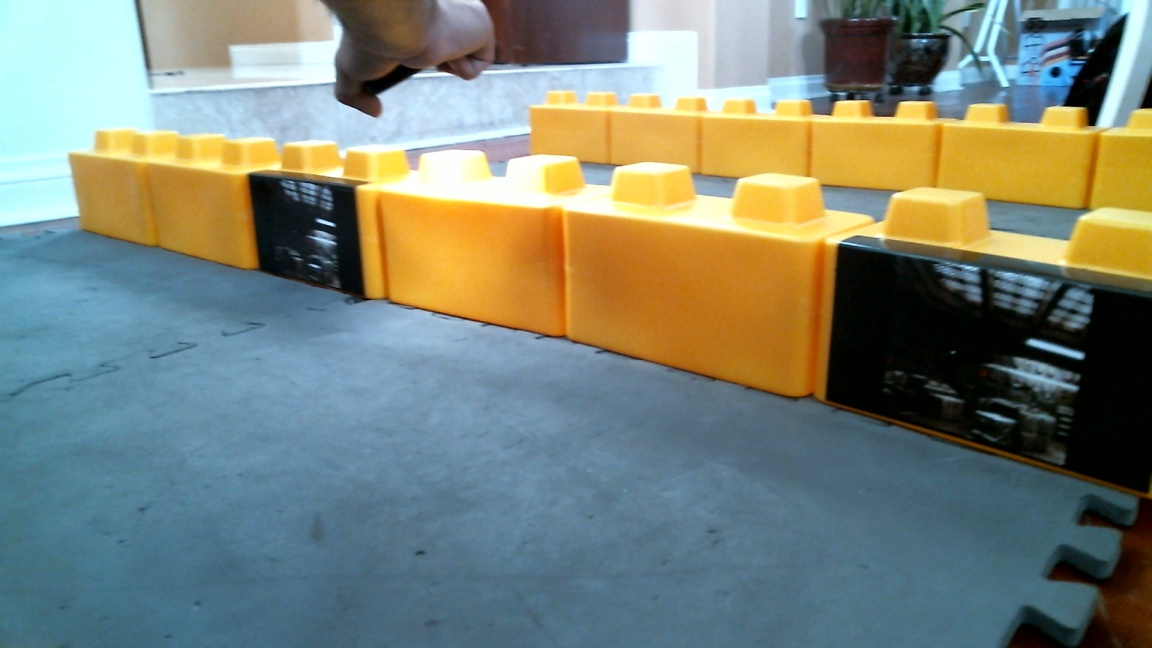skystone: (821, 179, 1151, 495), (255, 131, 386, 304)
stone: (572, 162, 809, 403), (390, 143, 560, 348), (147, 131, 257, 272), (76, 123, 156, 253)
